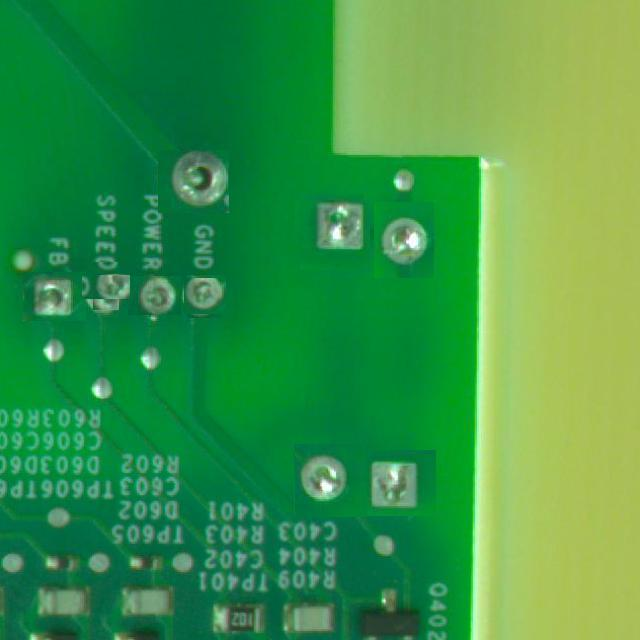lack_of_part: (295, 444, 367, 517), (361, 448, 433, 520), (297, 197, 367, 267), (374, 202, 434, 278), (158, 150, 229, 213), (27, 268, 83, 325), (128, 275, 182, 315), (185, 277, 225, 316), (88, 268, 125, 304)
